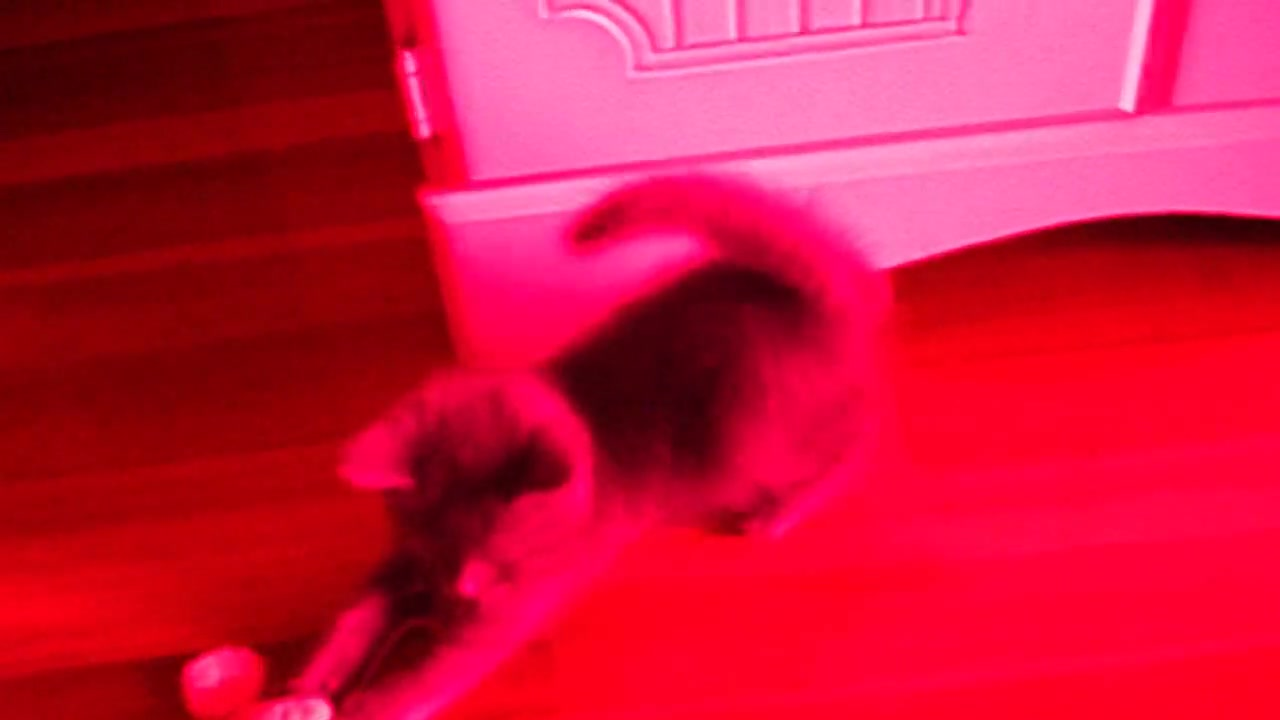cat: (286, 160, 910, 720)
